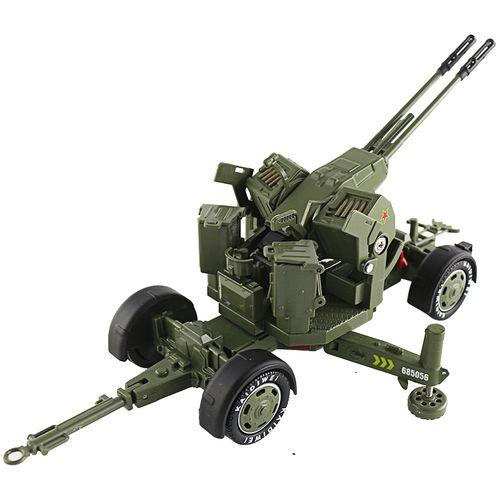MIL_SPG: (4, 37, 494, 463)
